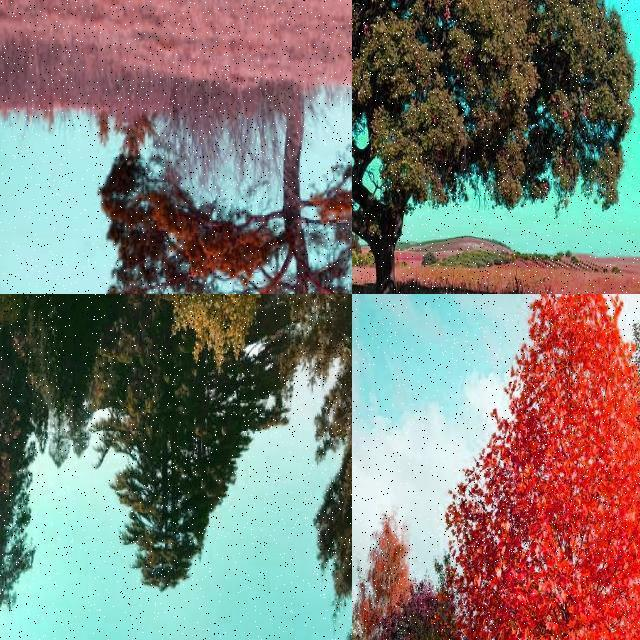tree: (352, 0, 630, 294), (431, 294, 640, 640), (91, 82, 352, 294), (0, 294, 104, 640), (108, 364, 255, 596), (306, 294, 352, 640), (38, 294, 110, 468), (173, 294, 271, 416), (242, 294, 352, 396), (356, 502, 412, 634), (0, 294, 48, 438), (0, 294, 66, 394), (114, 294, 164, 384)
